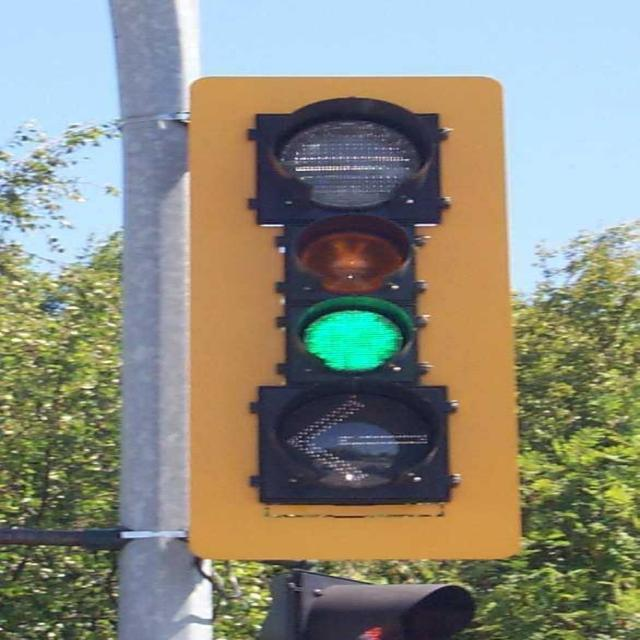Traffic Light -Green-: (259, 249, 447, 634), (255, 91, 429, 388)
